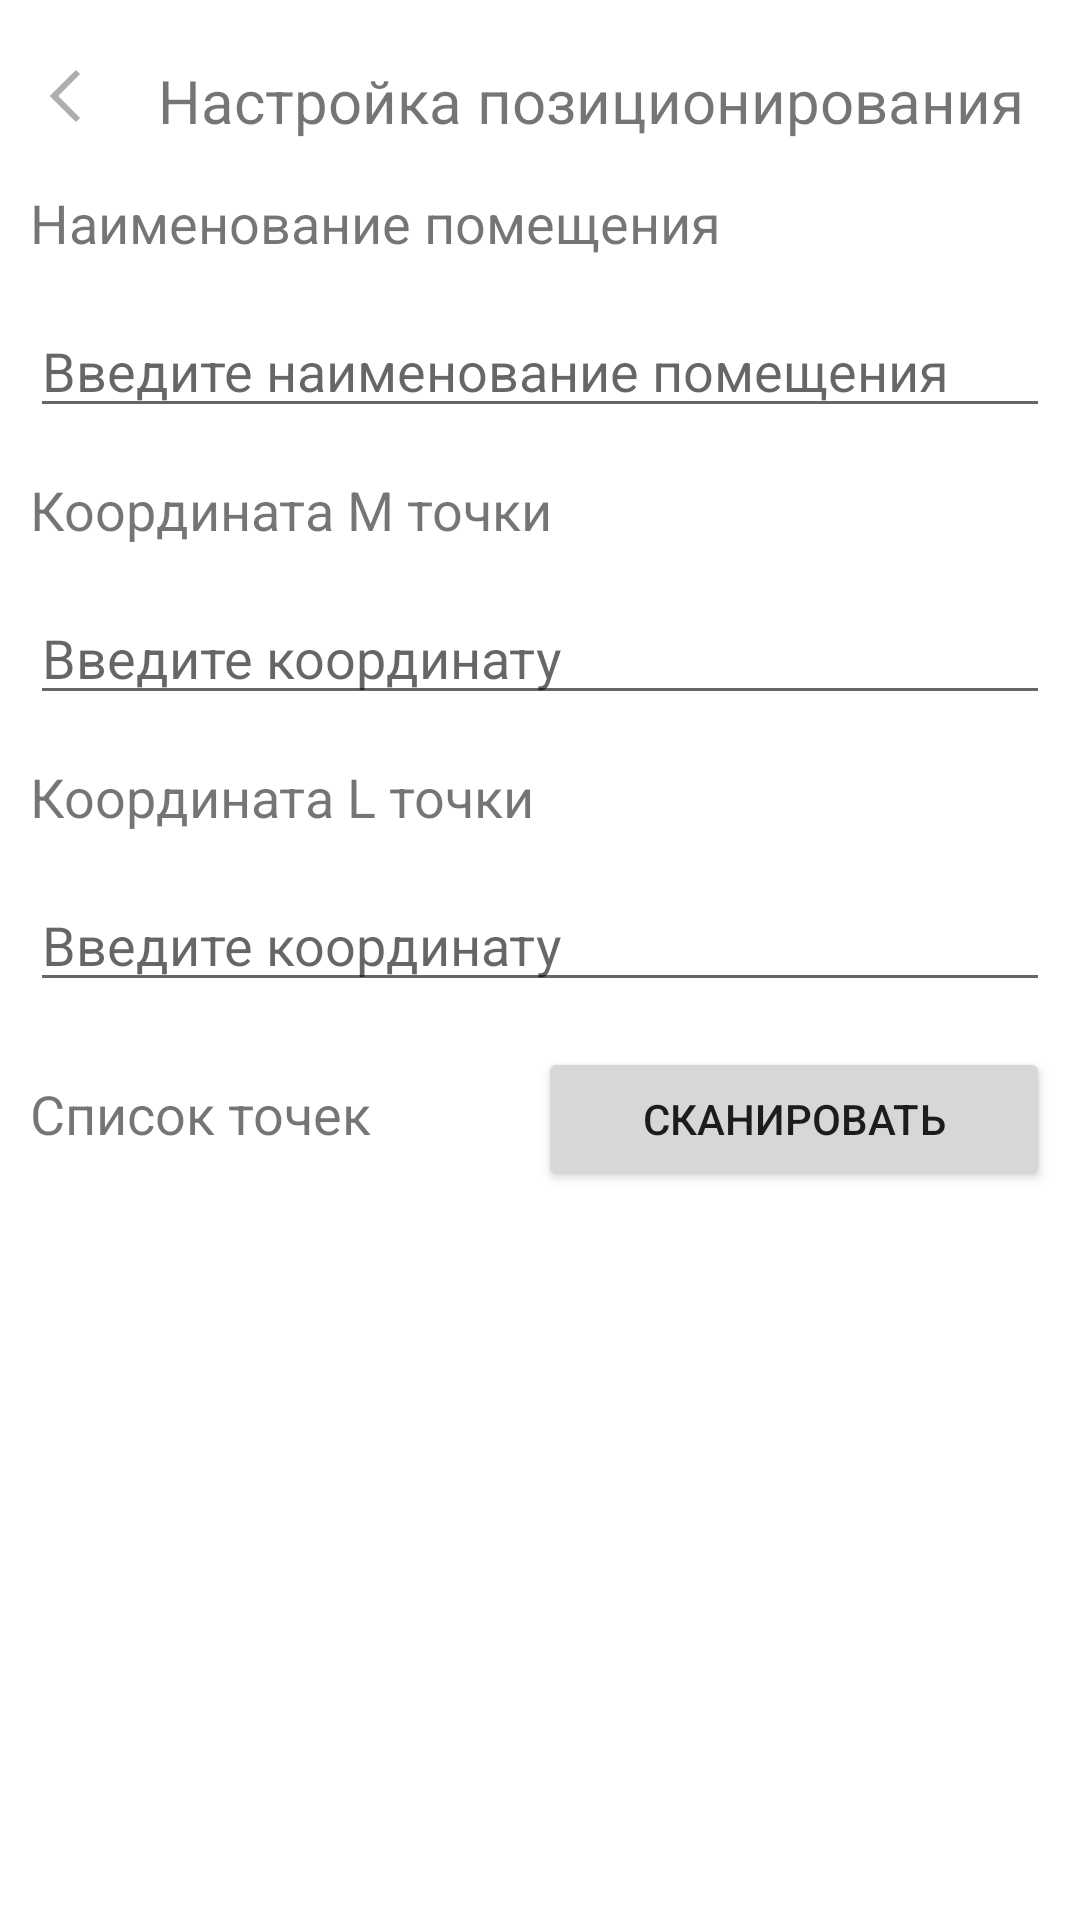

Icon bounding boxes for this 1080 × 1920 phone screenshot, format (x1, y1, x2, y2):
arrow: (50, 70, 80, 122)
